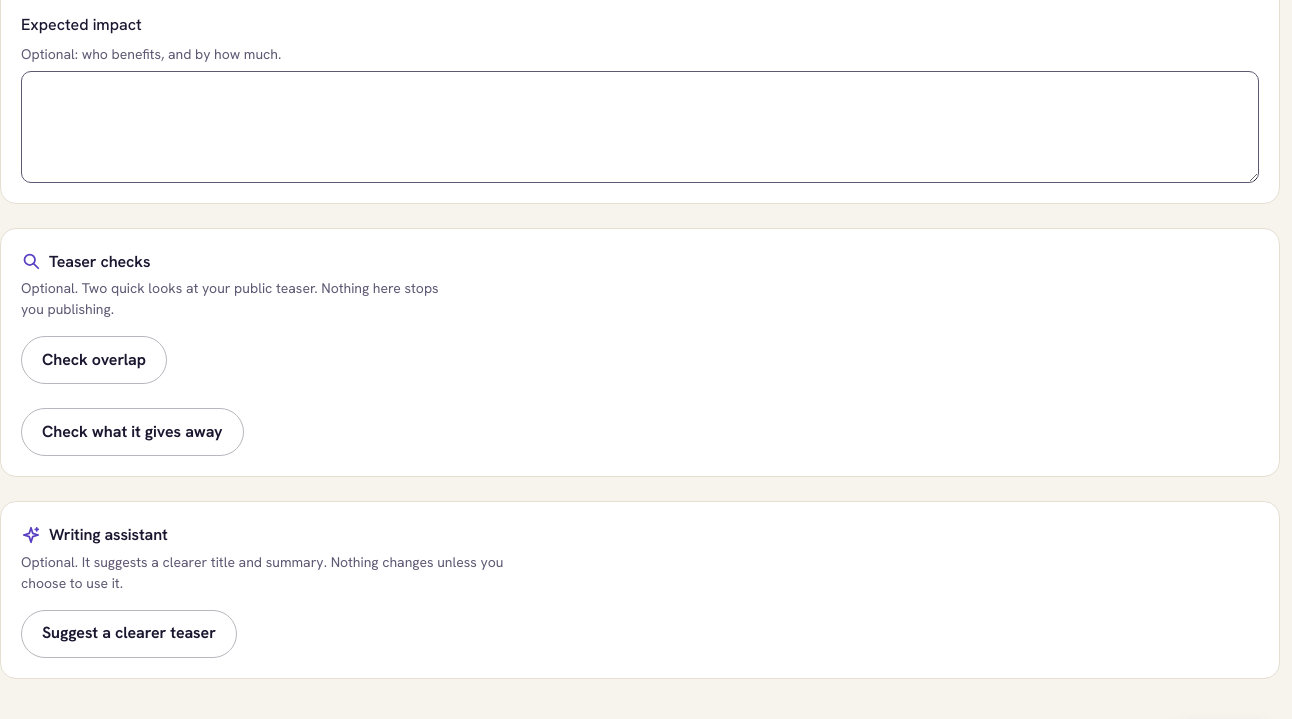
Test: check overlap › answers in a polite live region, says how many it compared with, and keeps focus on the button
(page scrolled)
Click the button "Check overlap" at (94, 360), box [21,336,167,384]
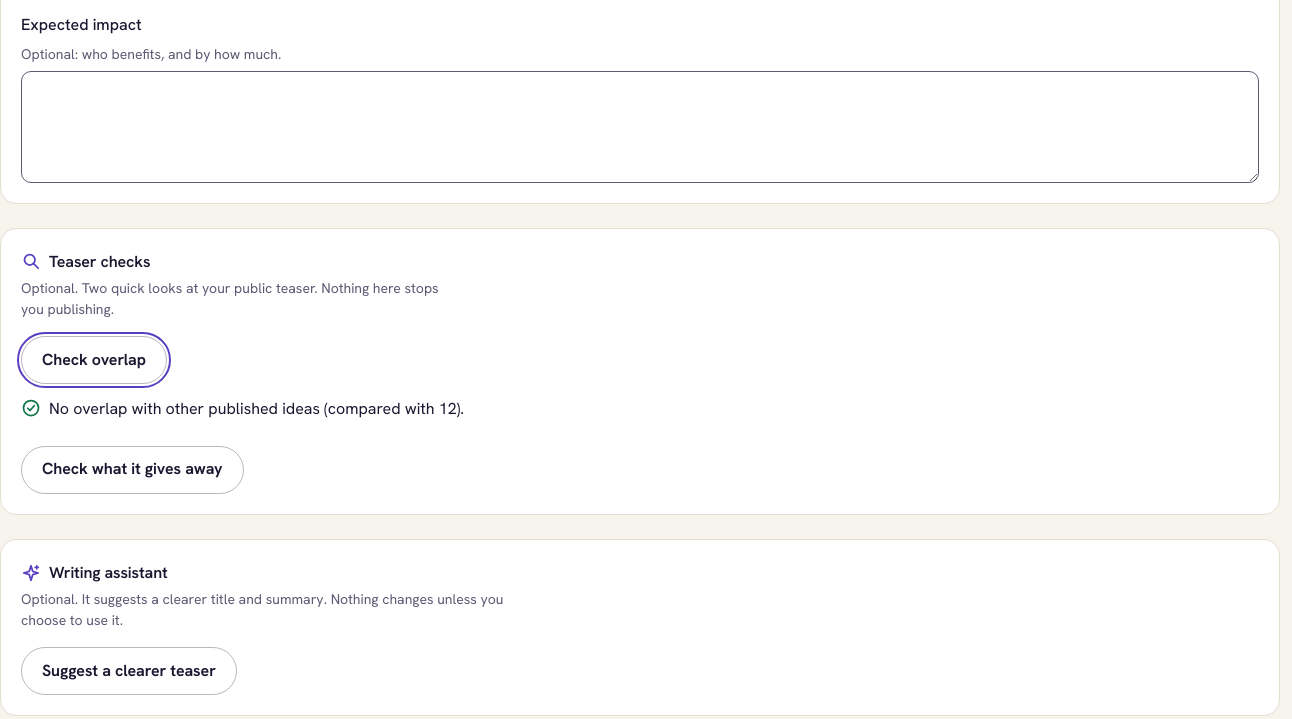
Result: the message "No overlap with other published ideas (compared with 12)." is shown at [21,396,464,422]
